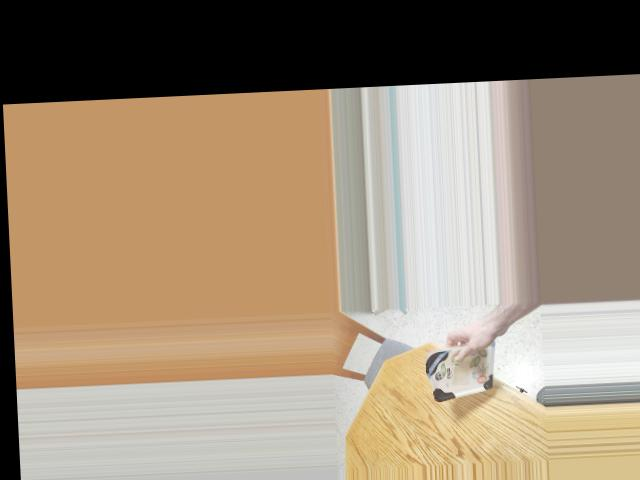cheese: (420, 343, 506, 396)
